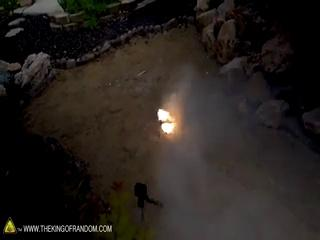Fire: (153, 104, 176, 134)
